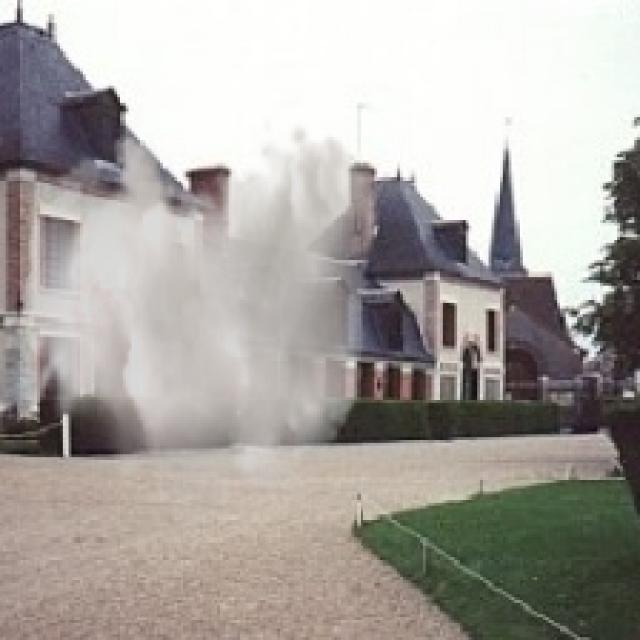smoke: (23, 123, 380, 537)
